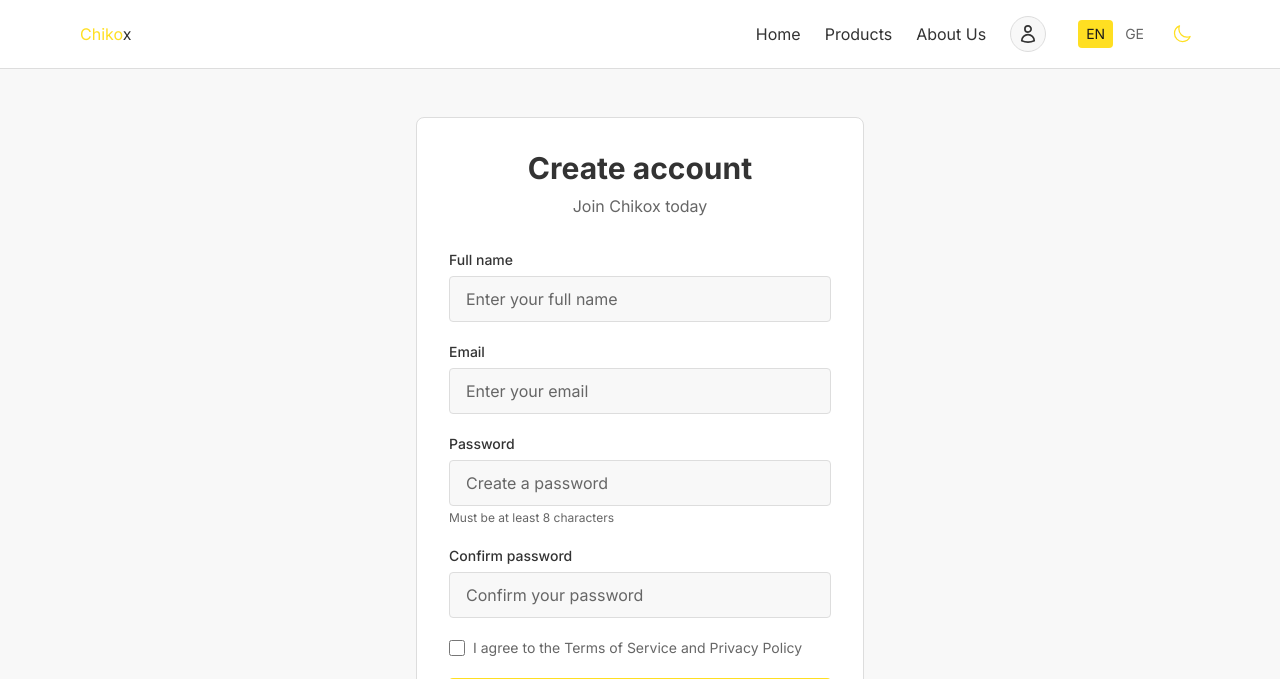
Scenario: RegisterPage › shows error when passwords do not match
The image size is (1280, 679).
Type "Test User" into the field labelled "Full name" at (640, 299), box [449,276,831,322]
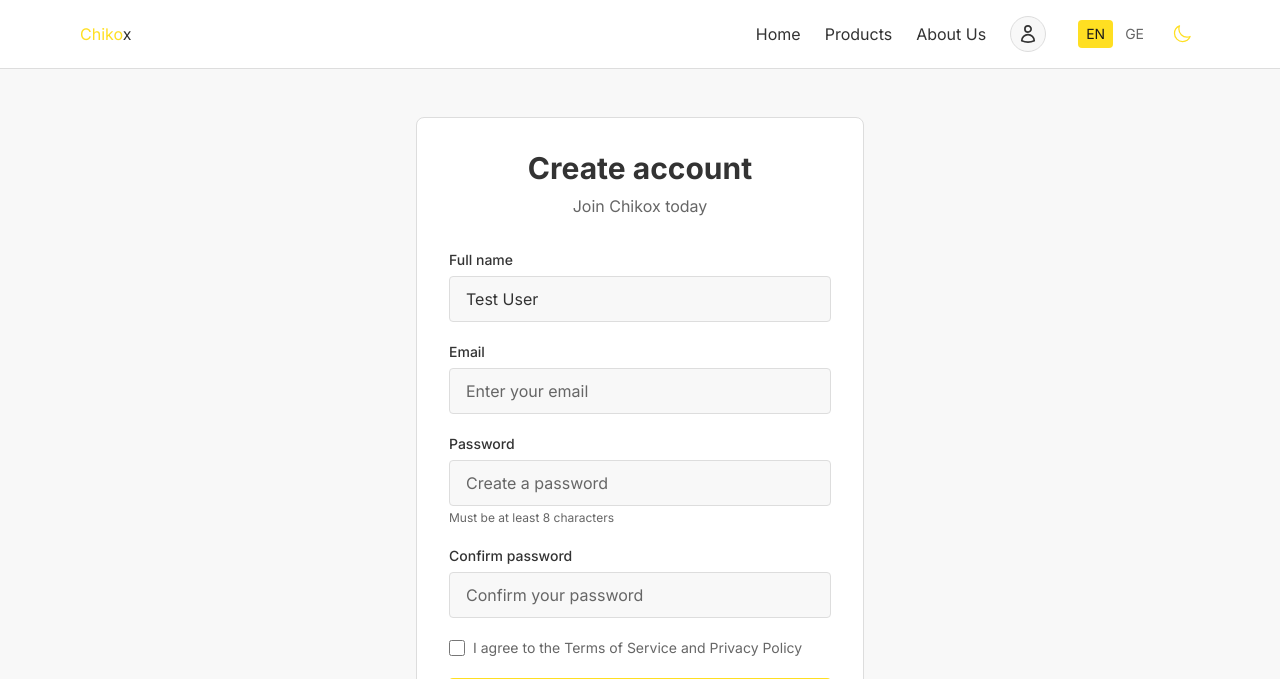
Type "test@example.com" into the field labelled "Email" at (640, 391), box [449,368,831,414]
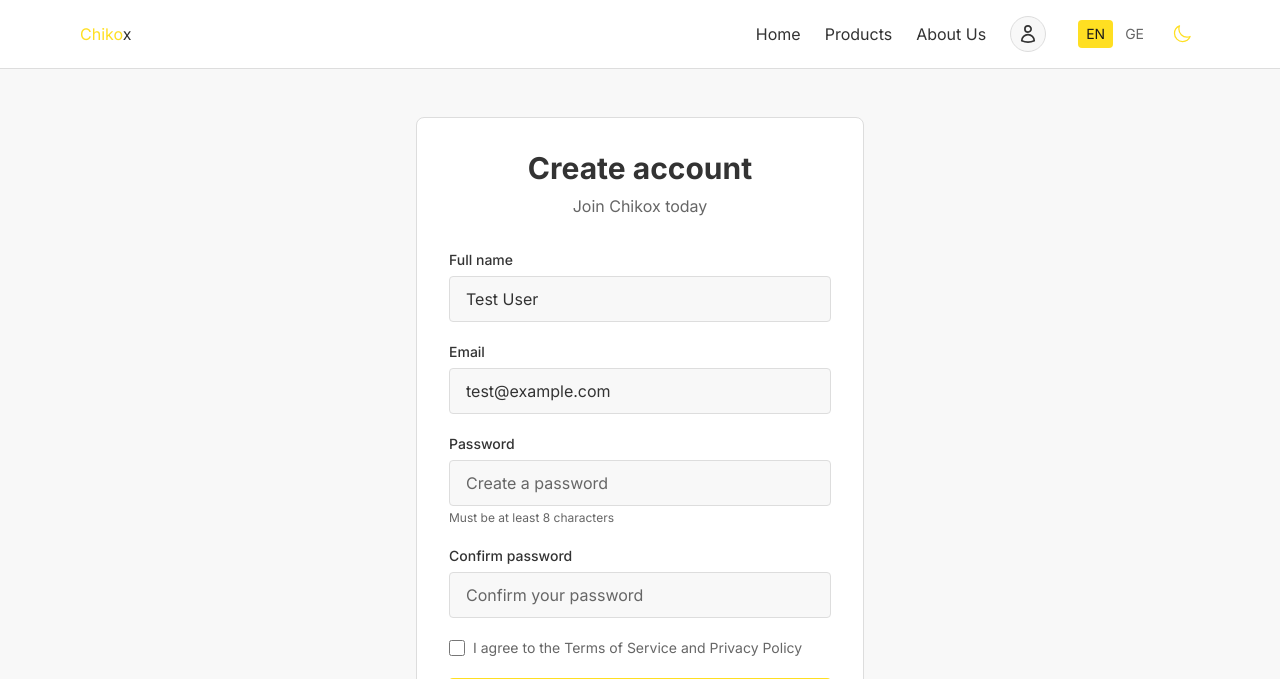
Type "password123" into the password field labelled "Password" at (640, 483), box [449,460,831,506]
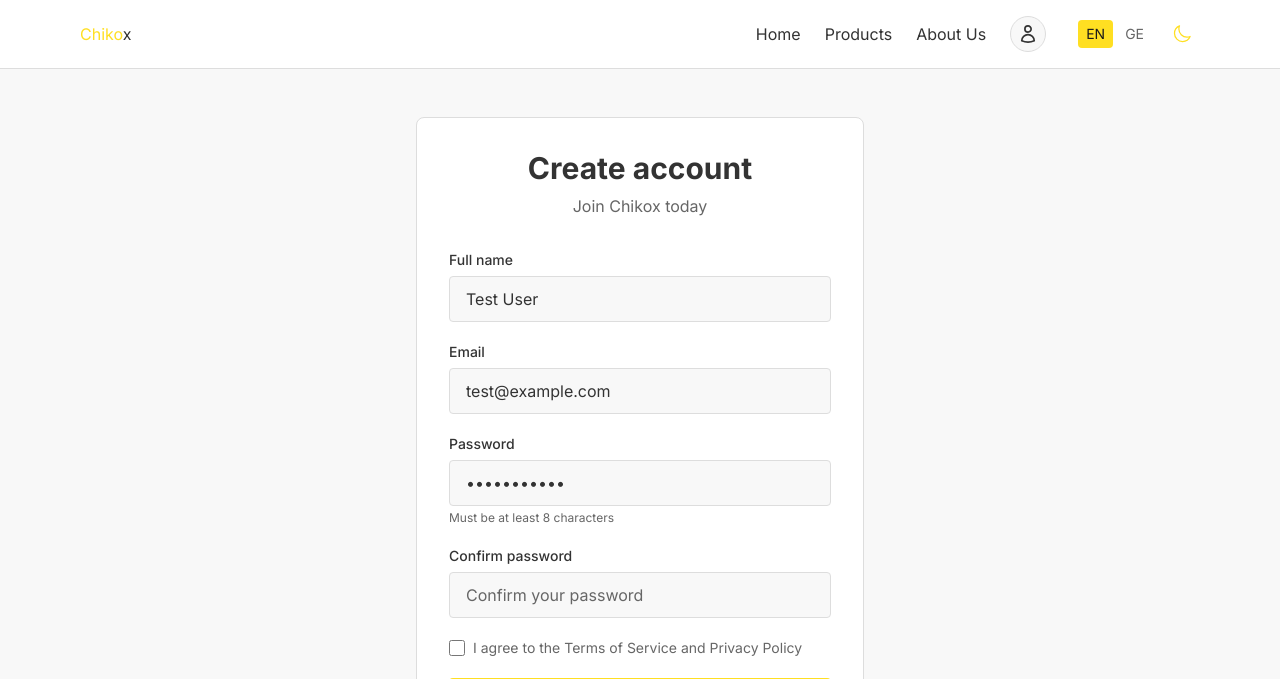
Type "different123" into the password field labelled "Confirm password" at (640, 595), box [449,572,831,618]
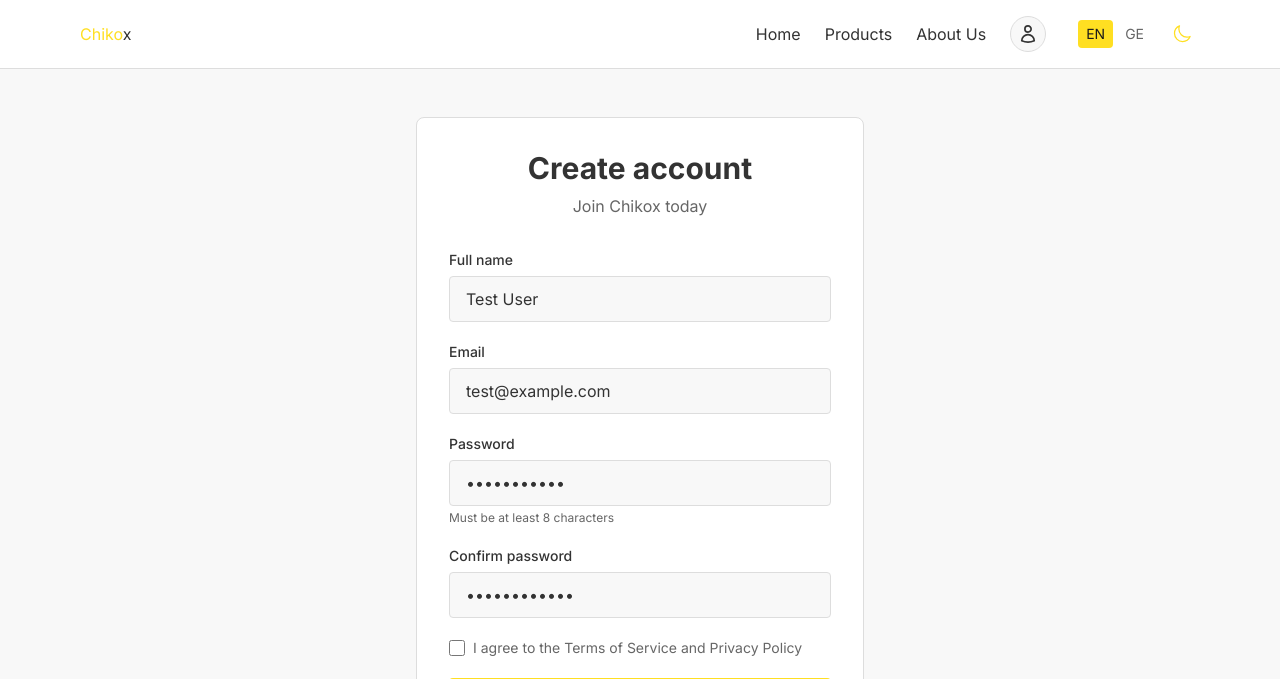
Click the checkbox at (457, 648), box [449,640,465,656]
(page scrolled)
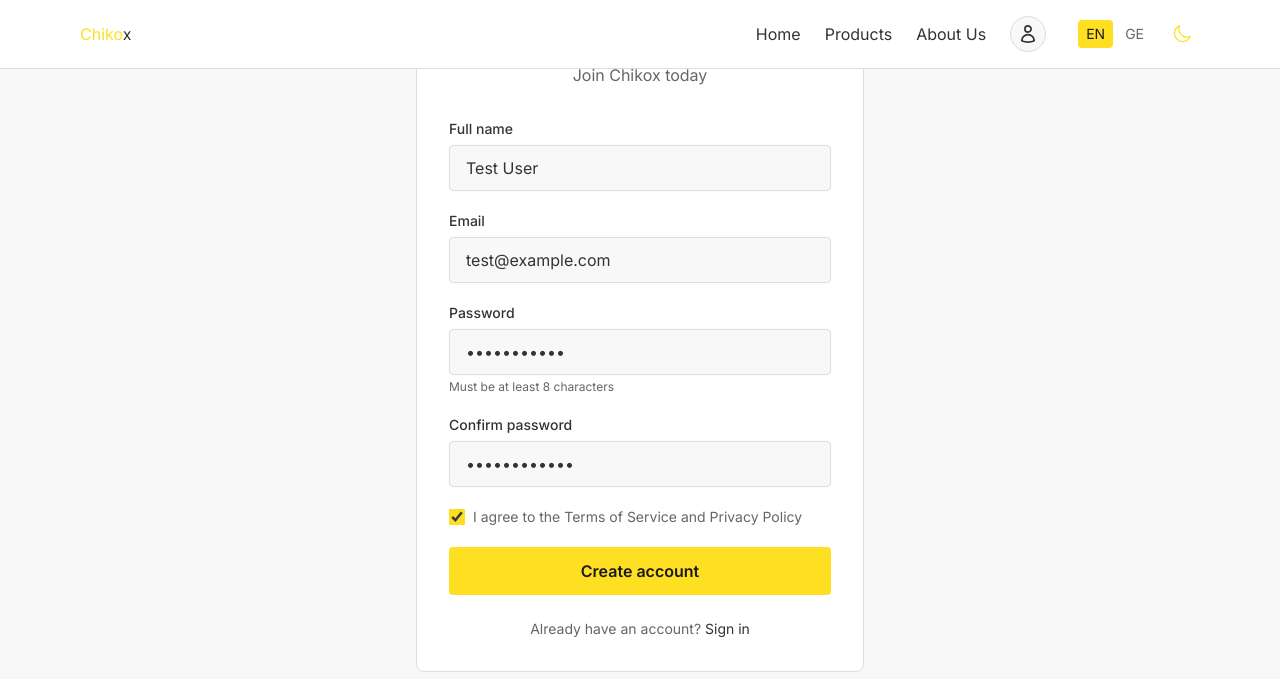
Click the button "Create account" at (640, 571), box [449,547,831,595]
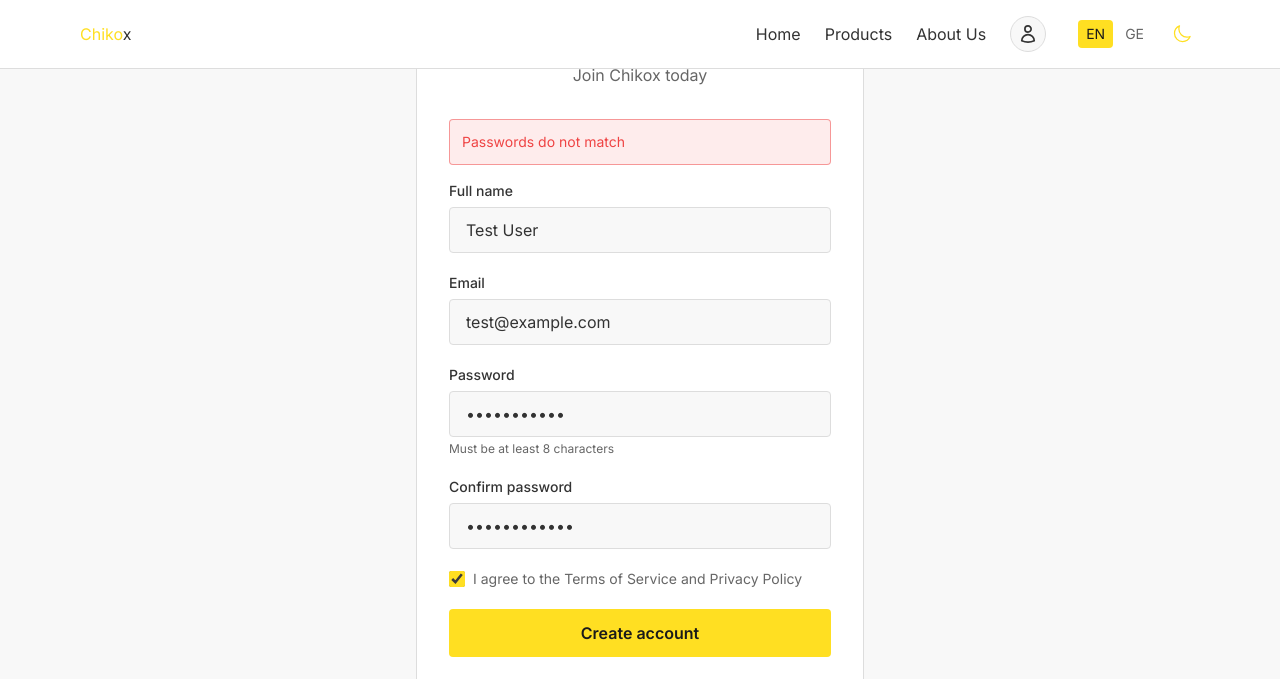
Check: the text "Passwords do not match" is shown, box [462,133,625,150]
